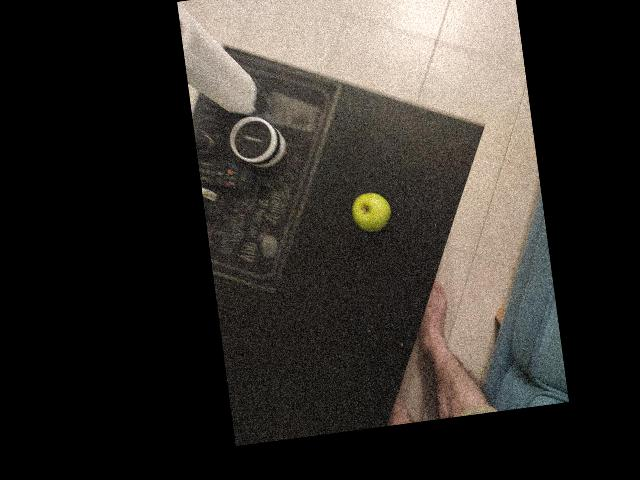apple: (406, 111, 470, 177)
